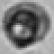correct: (2, 2, 52, 51)
